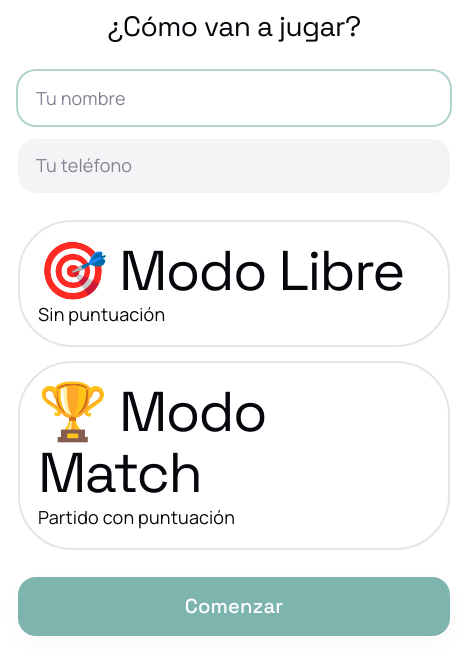
Test case: ClubSessionConfig › name and phone inputs (player-identity) › Comenzar is enabled when name, phone, and mode are all provided
The image size is (469, 654).
Type "Juan" into the field with placeholder "Tu nombre" at (234, 98), box 18,71 -> 450,125
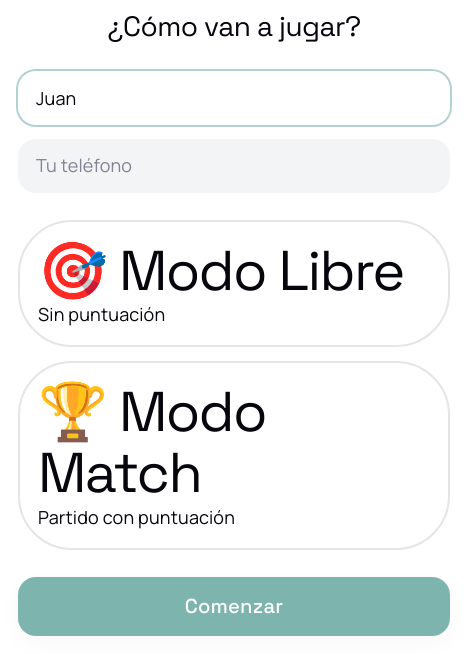
Type "1155551234" into the field with placeholder "Tu teléfono" at (234, 166), box 18,139 -> 450,193
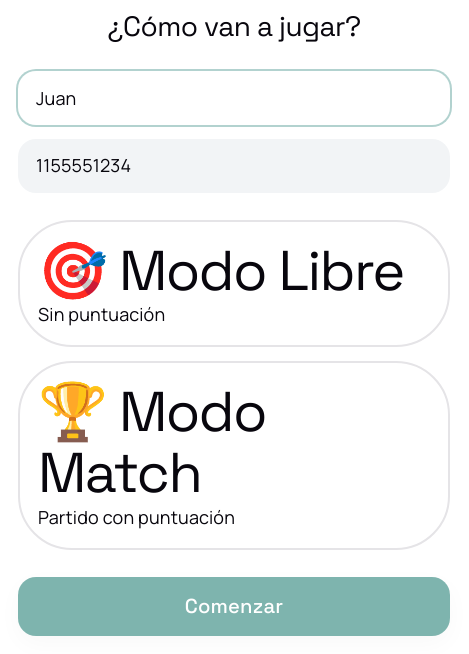
Click the text "🎯 Modo Libre" at (234, 270), box 38,240 -> 430,301
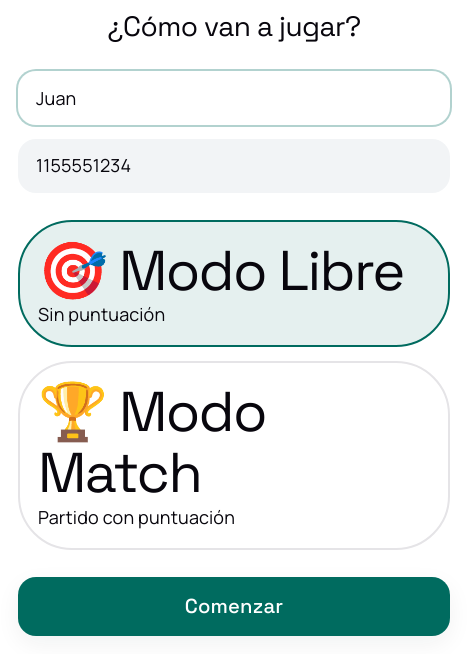
Result: the button "Comenzar" is enabled at 18,577 -> 450,636
